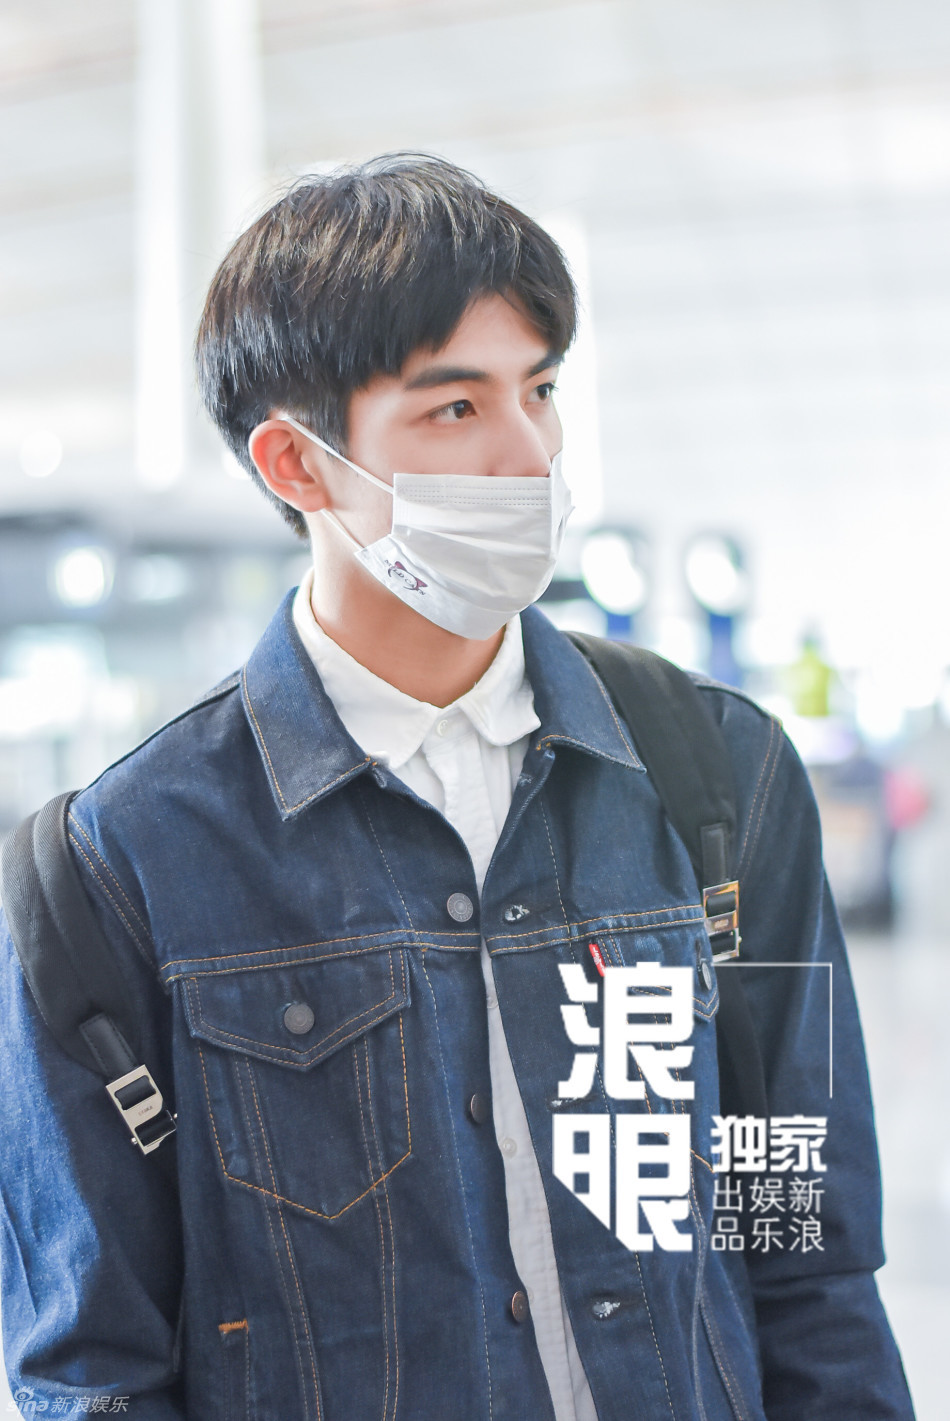face_mask: (337, 262, 565, 615)
